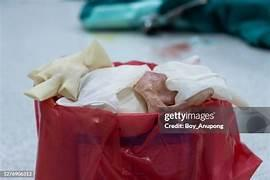Glove: (25, 41, 111, 100), (134, 71, 176, 111)
